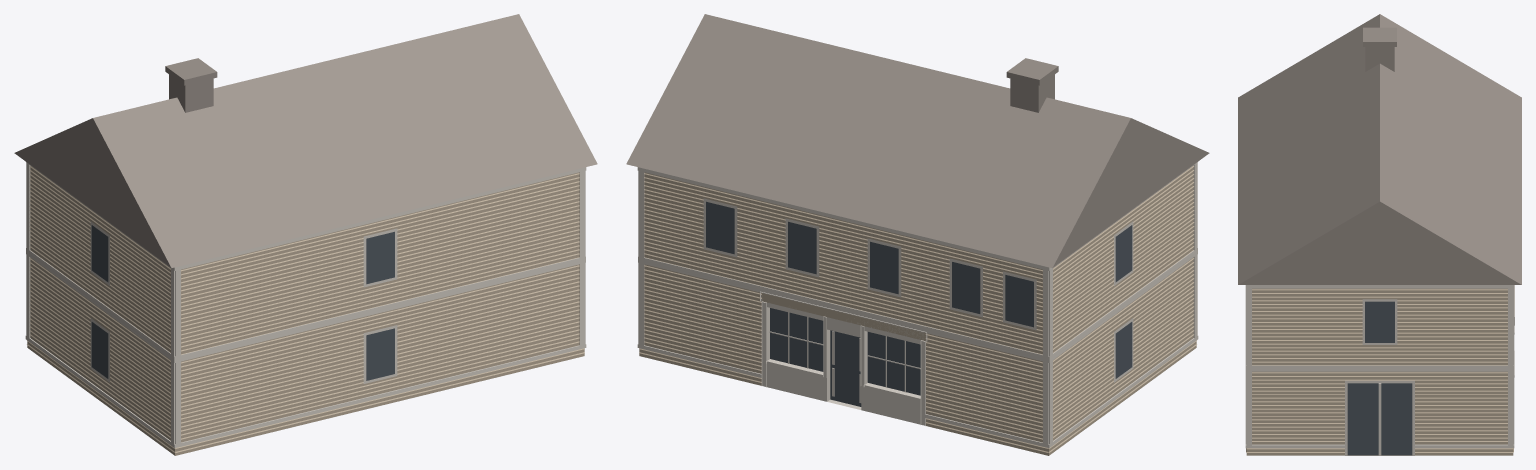
The model's file is thomas_church_store__frame_1834.glb.
3 renders of one model, left to right at view 1: azimuth 30°, elevation 25°; view 2: azimuth 150°, elevation 25°; view 3: azimuth 270°, elevation 25°, orthographic. The views are drawn at different scales.
Visible parts, largest first — view 1: thomas_church_store__frame_1834; view 2: thomas_church_store__frame_1834; view 3: thomas_church_store__frame_1834.
Part boxes in pixels (left/top/right/bottom): thomas_church_store__frame_1834: left=14, top=14, right=597, bottom=455; thomas_church_store__frame_1834: left=626, top=14, right=1209, bottom=455; thomas_church_store__frame_1834: left=1238, top=14, right=1521, bottom=455.
Size of the model in its own units: 12.69 by 8.85 by 8.12.
